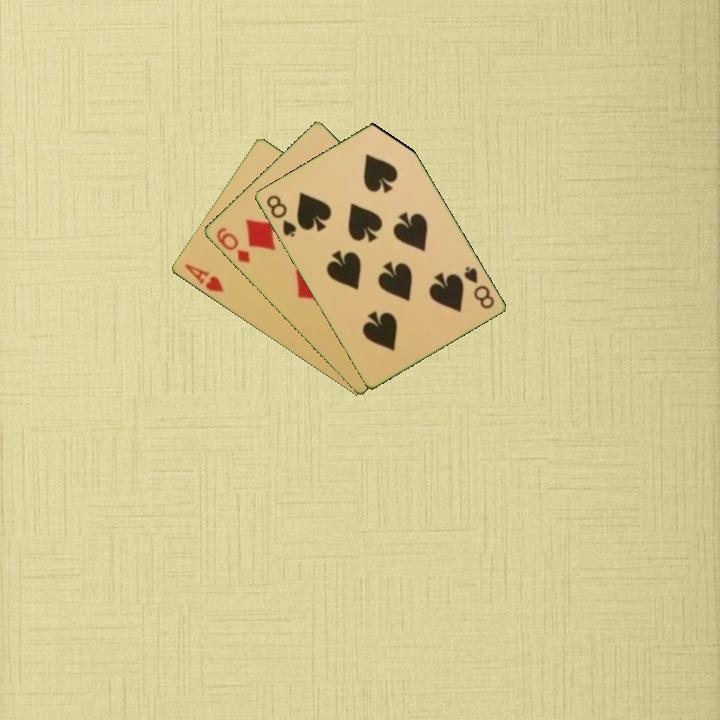6d: (212, 224, 252, 266)
8s: (460, 263, 497, 312), (263, 191, 299, 240)
Ah: (180, 260, 227, 295)
